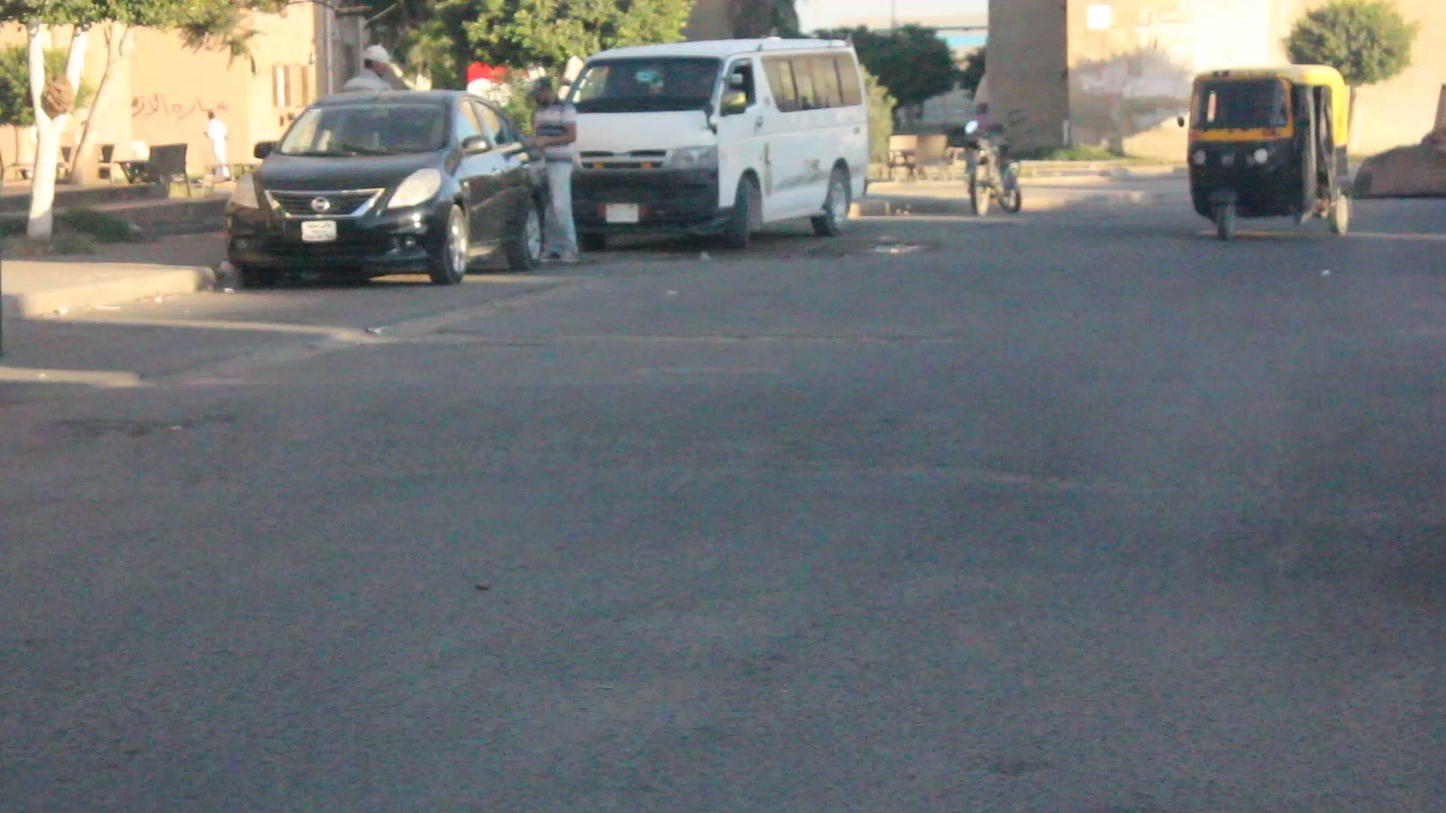Bump: (254, 348, 1446, 472)
